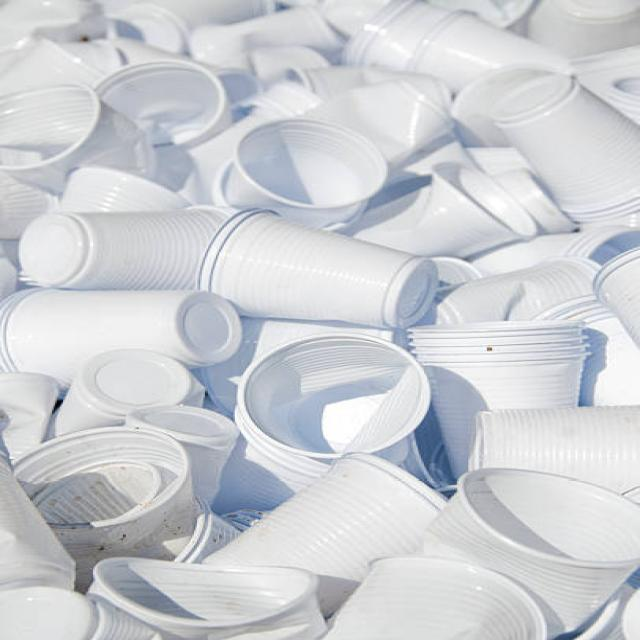plastic: (1, 18, 596, 632)
